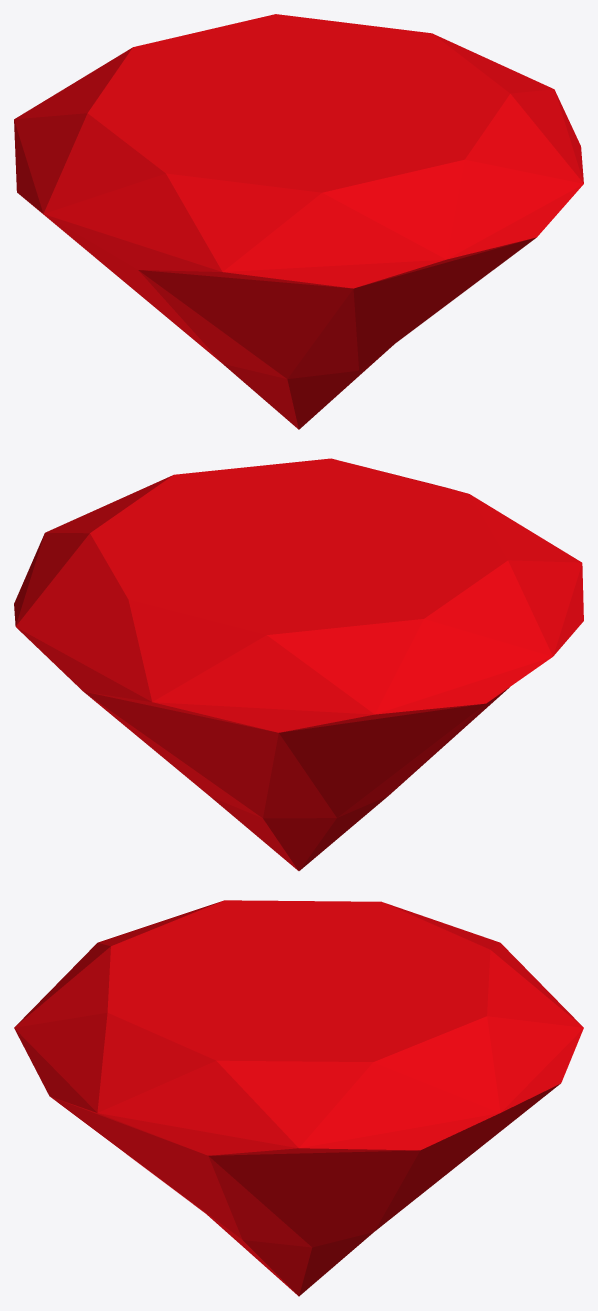
Rendered from ruby2.fbx.
The picture shows the model from 3 angles, top to bottom: view 1: azimuth 30°, elevation 25°; view 2: azimuth 150°, elevation 25°; view 3: azimuth 270°, elevation 25°; orthographic projection. The views are drawn at different scales.
Visible parts, largest first — view 1: Cylinder; view 2: Cylinder; view 3: Cylinder.
Part boxes in pixels (x1,y1,x2,y2): Cylinder: (14, 14, 583, 429); Cylinder: (14, 458, 583, 870); Cylinder: (14, 900, 583, 1296).
Bounding box in the file's own units: 200 × 122 × 200.
